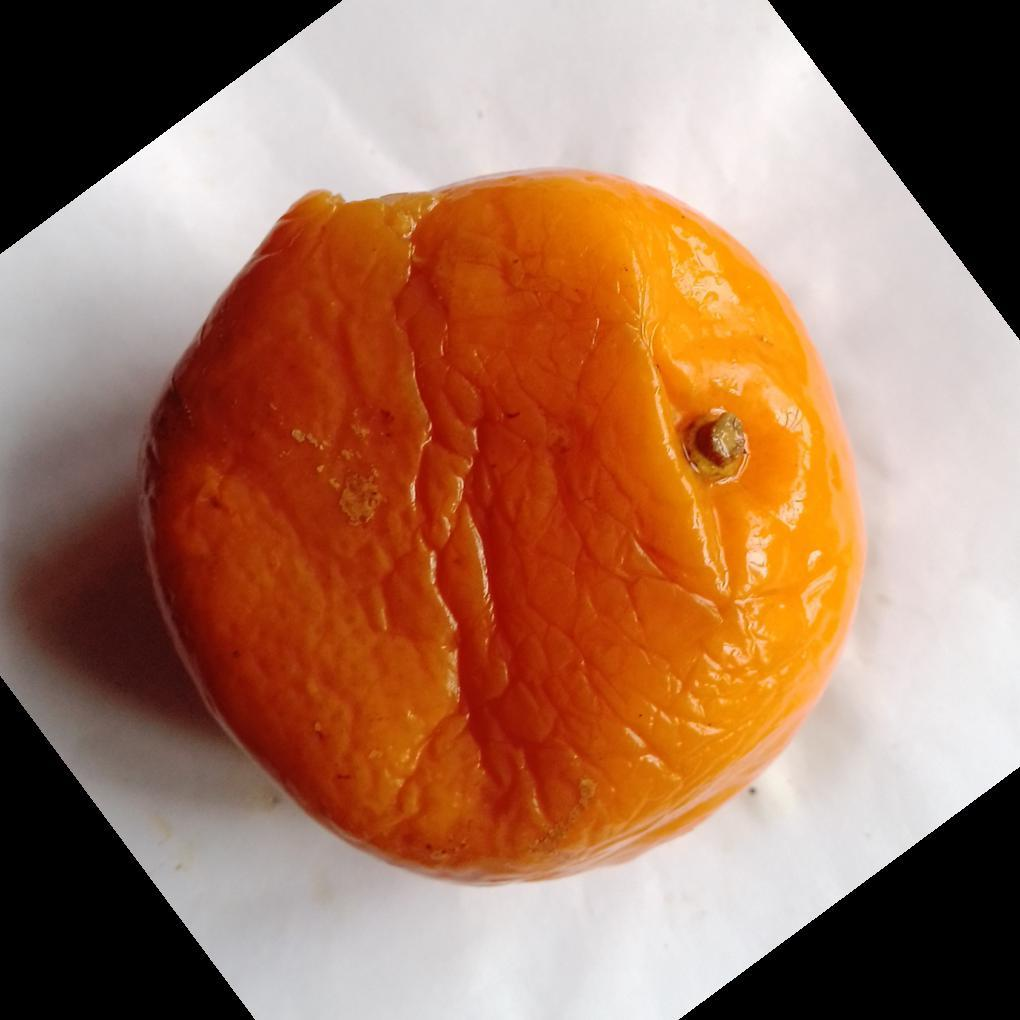FreshOrange: (137, 170, 867, 890)
